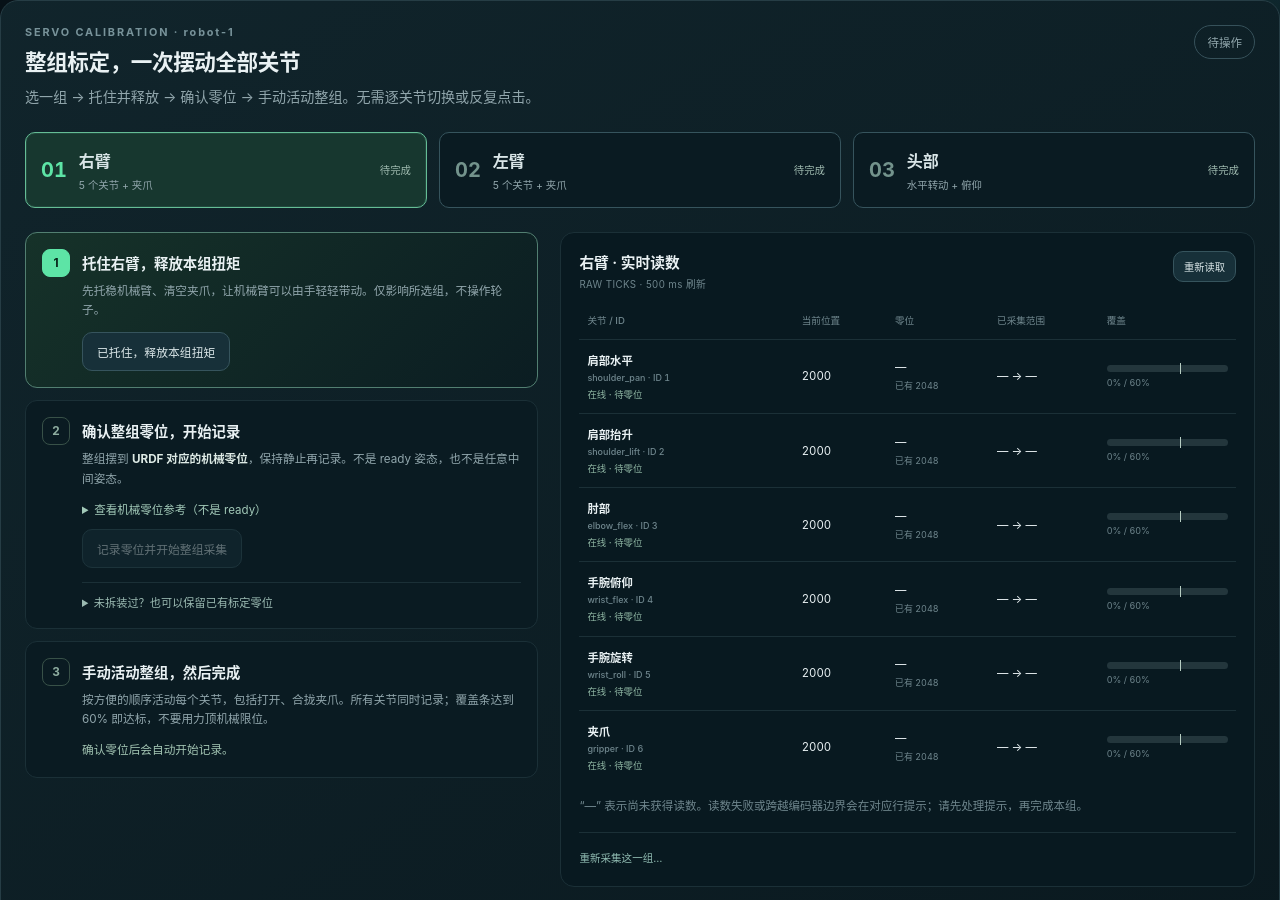
whole-group servo calibration › requires both explicit release and unchanged-hardware confirmation to reuse existing zero
Click the heading "未拆装过？也可以保留已有标定零位" at {"x": 183, "y": 603}, box [94,596,273,610]
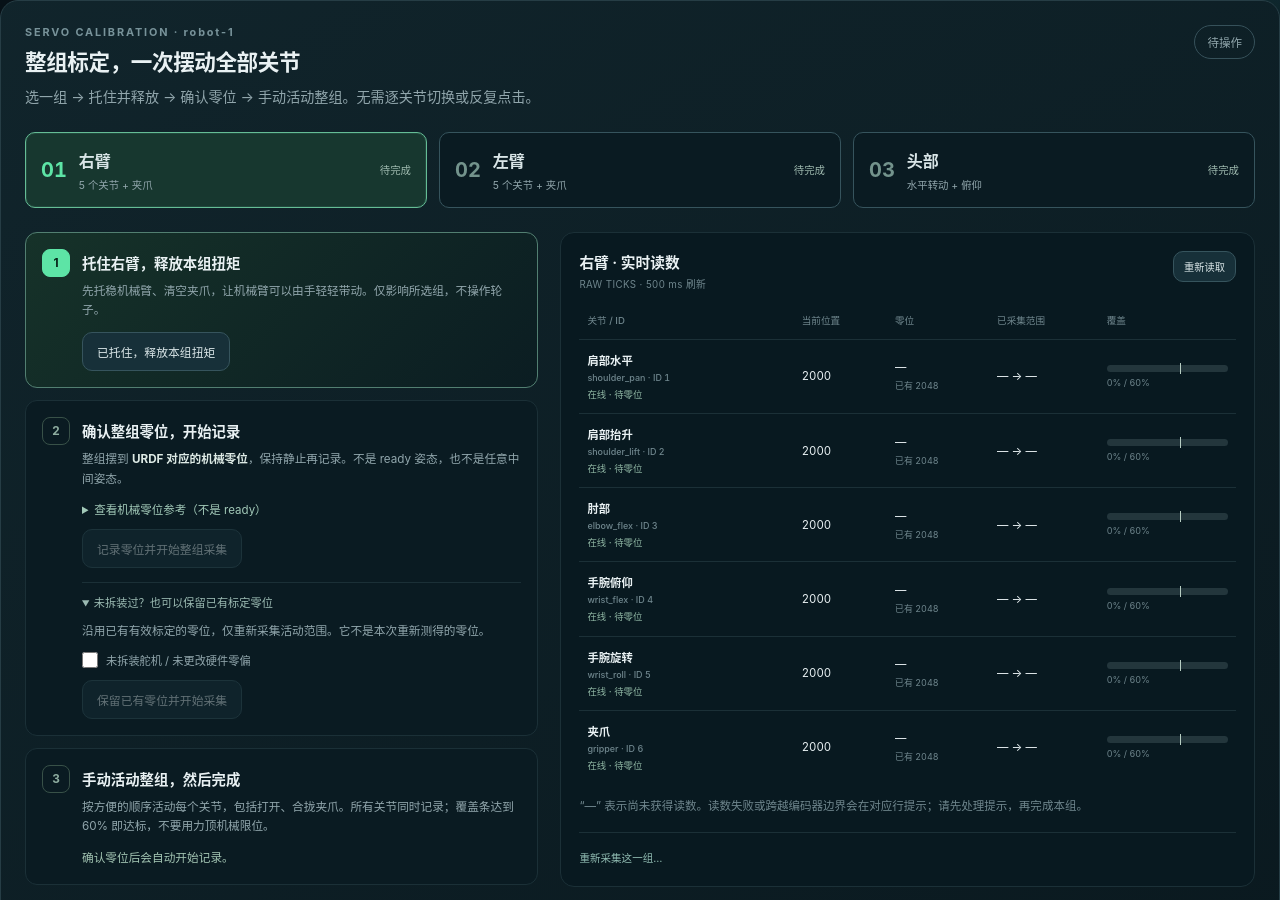
Check: the button "保留已有零位并开始采集" is disabled, box [82,680,242,719]
Click the checkbox labelled "未拆装舵机 / 未更改硬件零偏" at {"x": 90, "y": 660}, box [82,652,98,668]
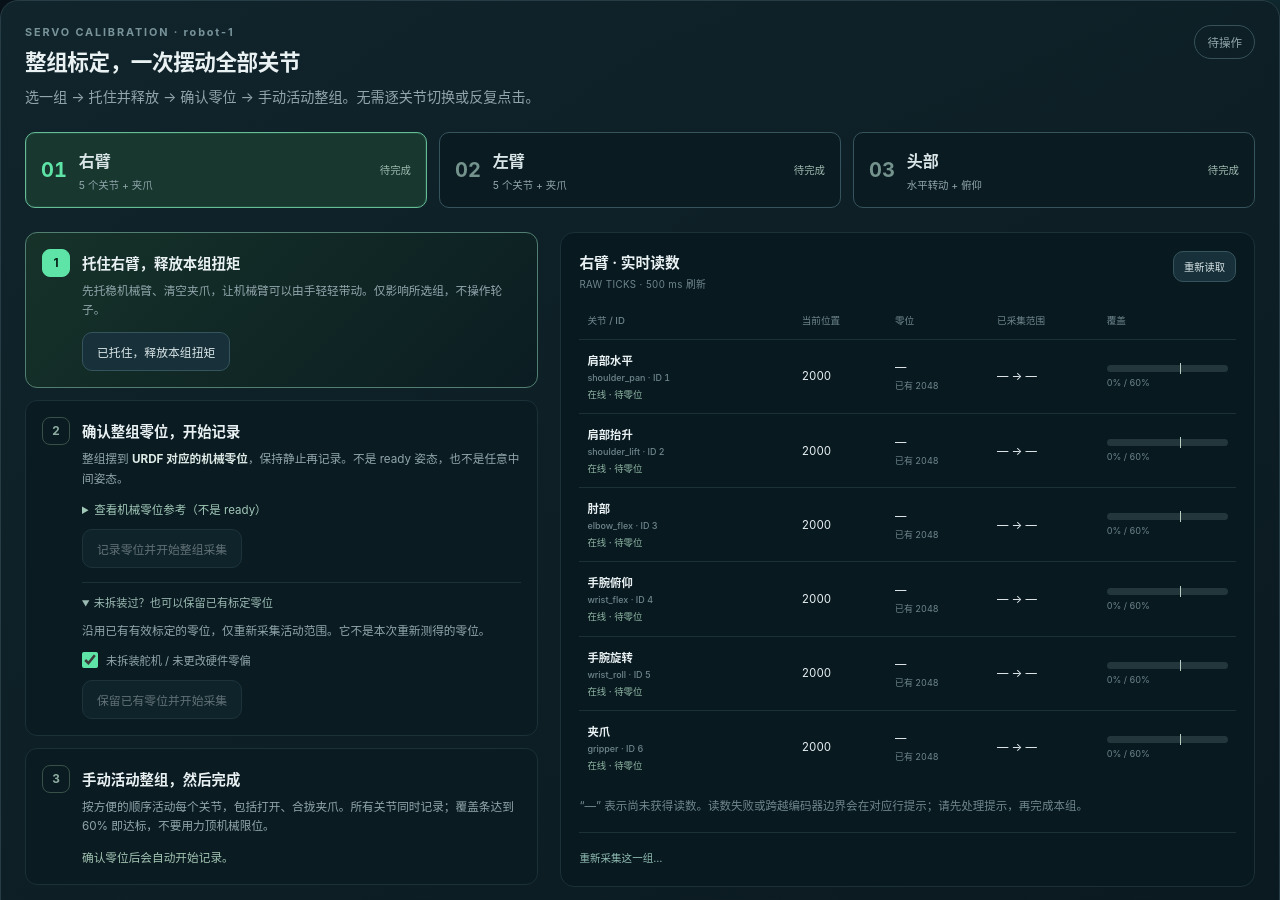
Check: the button "保留已有零位并开始采集" is disabled, box [82,680,242,719]
Click the button "已托住，释放本组扭矩" at {"x": 156, "y": 352}, box [82,332,230,371]
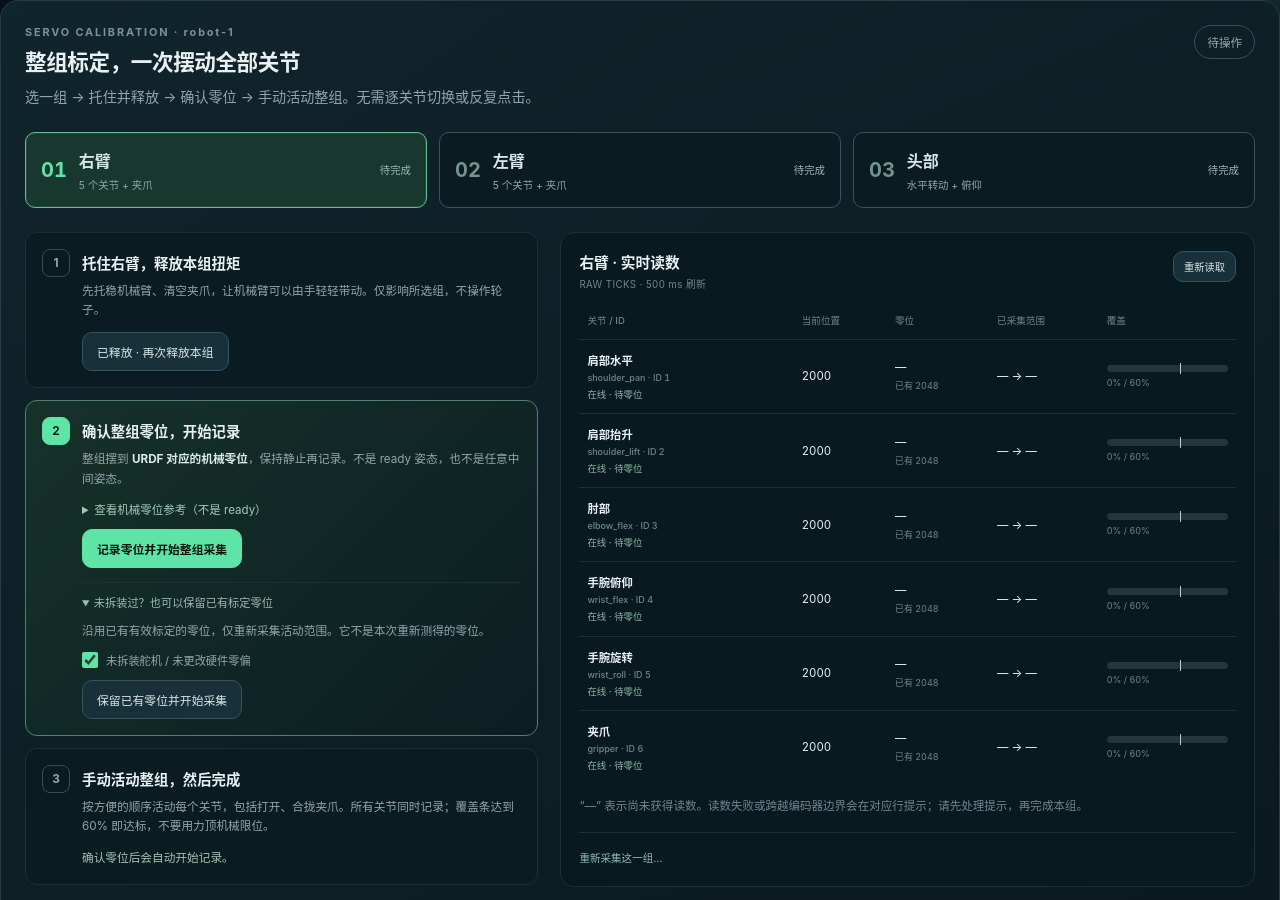
Check: the button "保留已有零位并开始采集" is enabled
Click the button "保留已有零位并开始采集" at {"x": 162, "y": 700}, box [82,680,242,719]
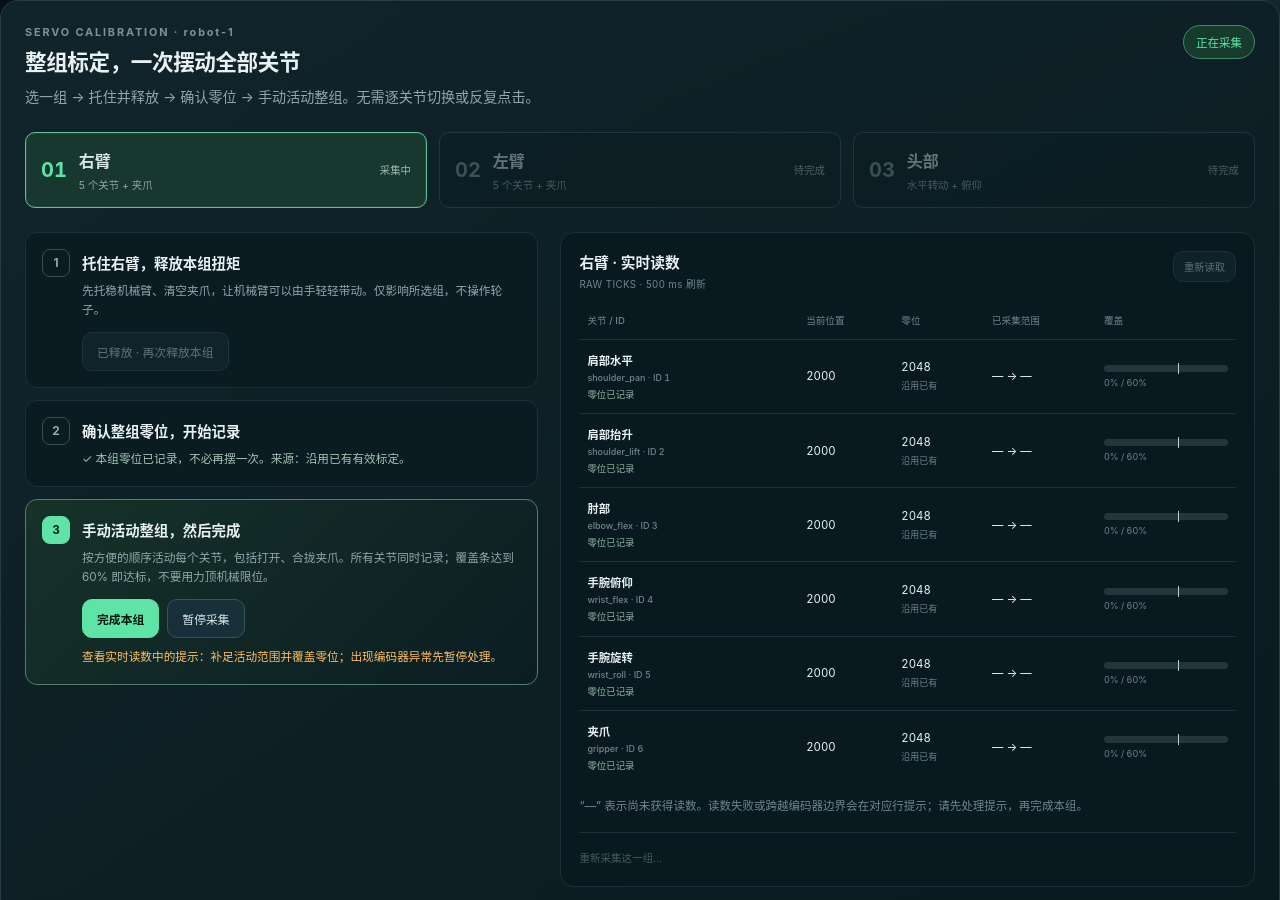
Check: the text "✓ 本组零位已记录，不必再摆一次。来源：沿用已有有效标定。" is shown, box [82,452,411,466]
